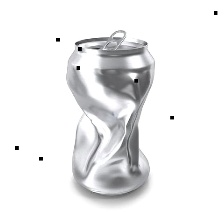can: (57, 26, 164, 202)
